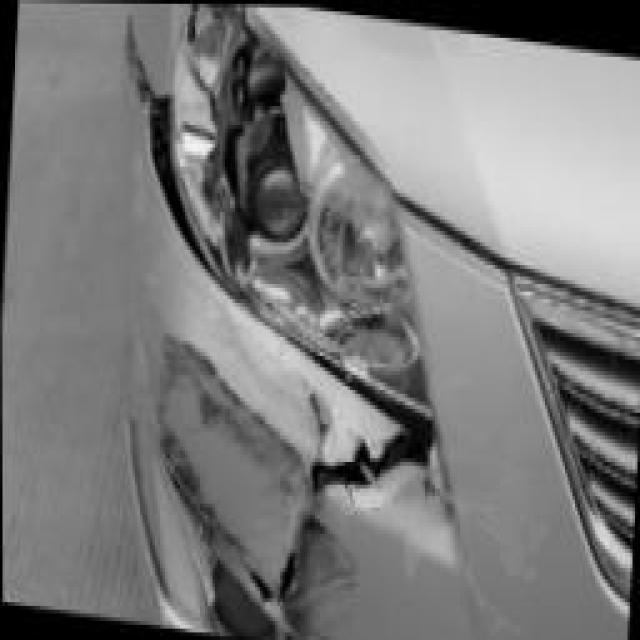Bumper: (98, 307, 451, 638), (100, 4, 183, 248)
Light: (157, 3, 434, 412)
